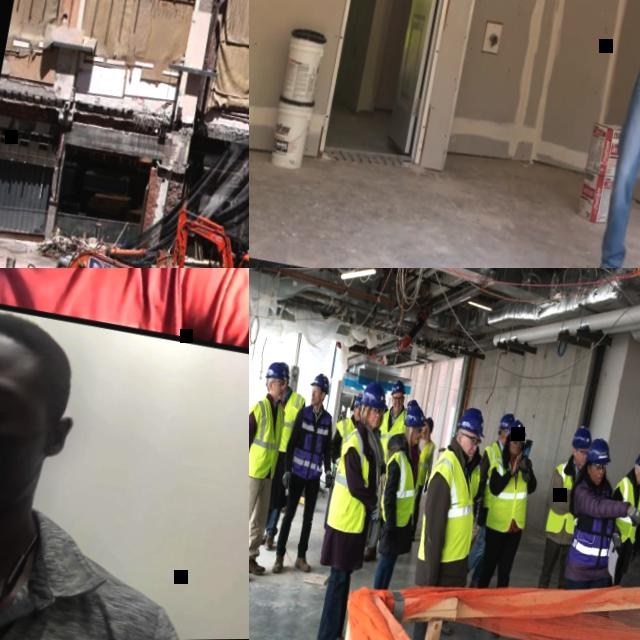Hardhat: (456, 405, 489, 439), (360, 379, 391, 411), (584, 437, 615, 468), (403, 405, 429, 431), (570, 426, 593, 452), (505, 417, 528, 442), (308, 371, 332, 394), (265, 361, 290, 381), (497, 412, 516, 433), (390, 380, 407, 398), (422, 417, 435, 434), (633, 450, 640, 474), (351, 395, 363, 409), (405, 399, 418, 410), (279, 362, 290, 375)
NO-Hardhat: (0, 297, 81, 390)
NO-Mask: (0, 409, 51, 542), (462, 447, 475, 463), (366, 416, 380, 429), (591, 475, 602, 488), (273, 388, 284, 400), (510, 446, 522, 457), (309, 397, 320, 407), (391, 403, 401, 413), (575, 459, 585, 468), (352, 413, 361, 422), (410, 437, 419, 446), (635, 475, 640, 486), (422, 428, 426, 434)
NO-Safety Vest: (0, 504, 176, 640), (0, 268, 214, 341)
Person: (0, 268, 247, 640), (298, 377, 405, 640), (390, 401, 501, 640), (0, 268, 249, 372), (535, 434, 640, 640), (260, 367, 355, 582), (458, 417, 549, 640), (362, 402, 440, 594), (249, 361, 314, 553), (249, 357, 303, 586), (352, 379, 415, 566), (456, 410, 518, 590), (531, 424, 596, 593), (587, 447, 640, 623), (314, 392, 365, 534), (400, 415, 441, 542), (464, 449, 485, 502), (404, 397, 419, 420)
Safety Vest: (411, 445, 487, 569), (324, 426, 382, 537), (558, 478, 623, 571), (476, 454, 537, 538), (374, 449, 426, 531), (289, 404, 335, 483), (543, 461, 588, 538), (249, 393, 288, 481), (603, 474, 640, 546), (373, 406, 408, 467), (473, 442, 505, 508), (275, 390, 307, 454), (324, 416, 356, 480), (413, 440, 436, 490)
vehicle: (151, 203, 249, 268)
